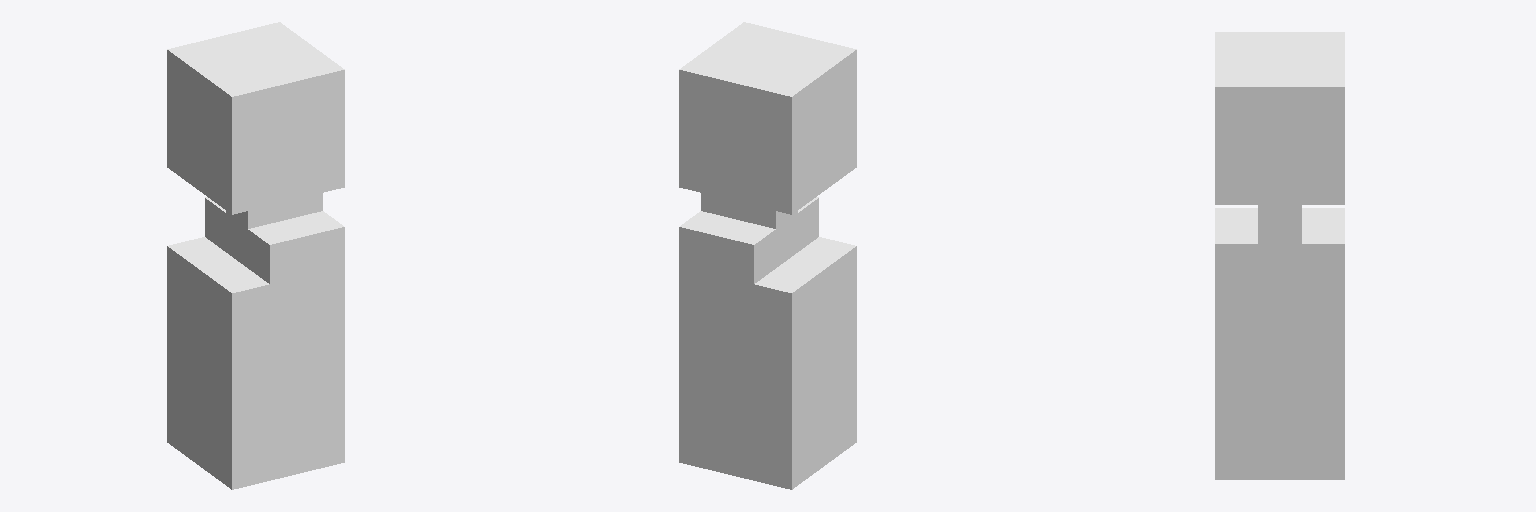
File: human-27-torso_static.obj
3 views of the same model, side by side, from view 1: azimuth 30°, elevation 25°; view 2: azimuth 150°, elevation 25°; view 3: azimuth 270°, elevation 25° (orthographic).
Parts seen in each view (by area): view 1: torso_static; view 2: torso_static; view 3: torso_static.
Boxes of the visible parts, x1=… form: torso_static: x1=167, y1=22, x2=344, y2=489; torso_static: x1=679, y1=22, x2=856, y2=489; torso_static: x1=1215, y1=32, x2=1344, y2=479.
Size of the model in its own units: 0.3 by 1 by 0.3.